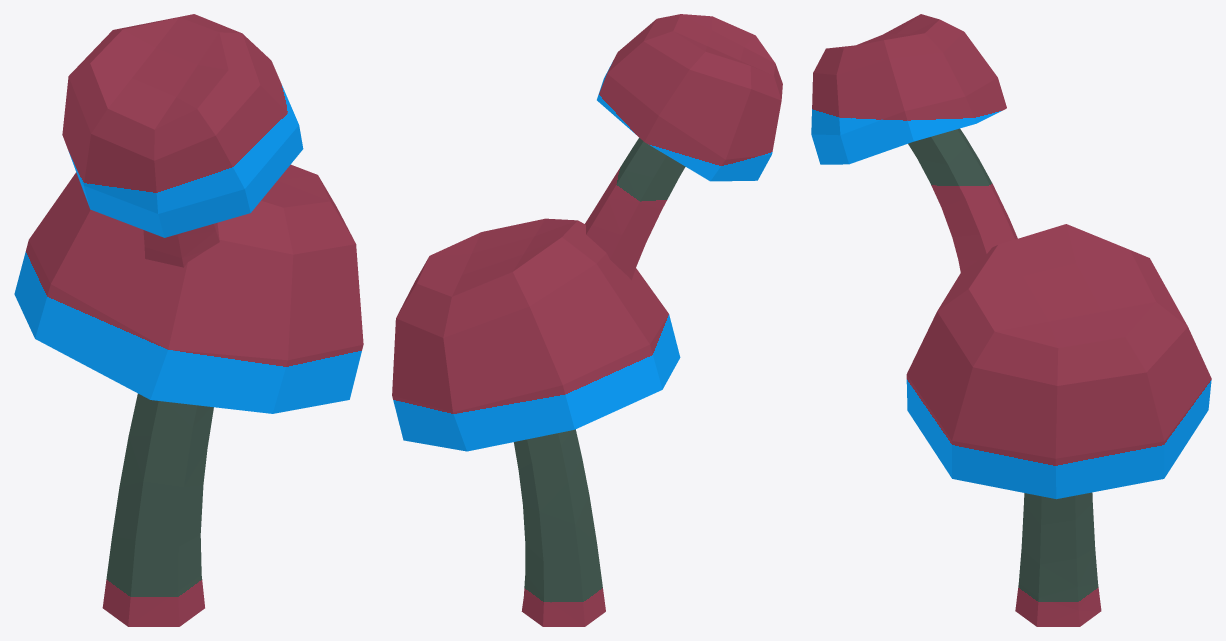
File: MushroomModel.glb
3 renders of one model, left to right at view 1: azimuth 30°, elevation 25°; view 2: azimuth 150°, elevation 25°; view 3: azimuth 270°, elevation 25°, orthographic. The views are drawn at different scales.
Visible parts, largest first — view 1: NurbsPath.002; view 2: NurbsPath.002; view 3: NurbsPath.002.
Boxes of the visible parts, x1,y1,x2,y2 form: NurbsPath.002: [14, 14, 363, 626]; NurbsPath.002: [392, 14, 782, 626]; NurbsPath.002: [811, 14, 1211, 626].
Size of the model in its own units: 2.24 by 4.09 by 2.67.
Materials: 1 (1 with a texture image).
